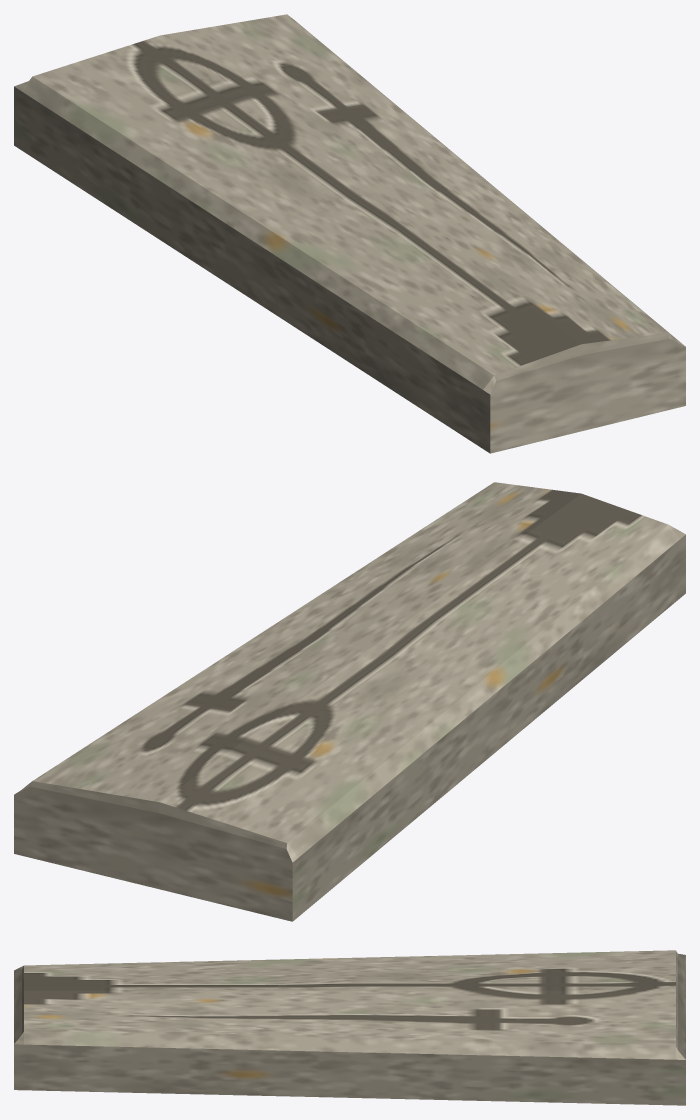
File: SE_Grave_Slab_Knight.glb
3 views of the same model, one above another, from view 1: azimuth 30°, elevation 25°; view 2: azimuth 150°, elevation 25°; view 3: azimuth 270°, elevation 25° (orthographic). The views are drawn at different scales.
Visible parts, largest first — view 1: SE_Grave_Slab_Knight; view 2: SE_Grave_Slab_Knight; view 3: SE_Grave_Slab_Knight.
Boxes of the visible parts, box(x1,y1,x2,y2) form: SE_Grave_Slab_Knight: box(14, 14, 685, 453); SE_Grave_Slab_Knight: box(14, 482, 685, 921); SE_Grave_Slab_Knight: box(14, 950, 685, 1105).
Bounding box in the file's own units: 0.74 × 0.205 × 2.
1 material, 1 textured.
